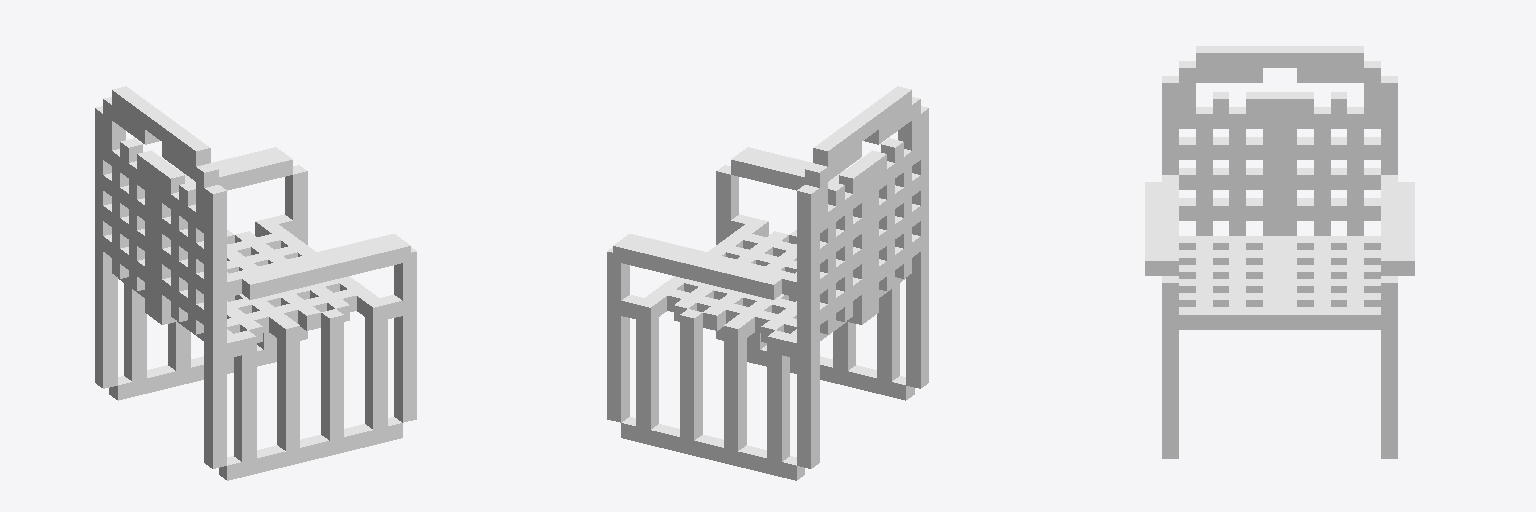
The model's file is GardenChair.obj.
3 views of the same model, side by side, from view 1: azimuth 30°, elevation 25°; view 2: azimuth 150°, elevation 25°; view 3: azimuth 270°, elevation 25° (orthographic).
Visible parts, largest first — view 1: object 1; view 2: object 1; view 3: object 1.
Part boxes in pixels (x1,y1,x2,y2): object 1: (95,86,416,480); object 1: (607,86,928,480); object 1: (1145,46,1414,458).
Size of the model in its own units: 1.4 by 2.1 by 1.6.